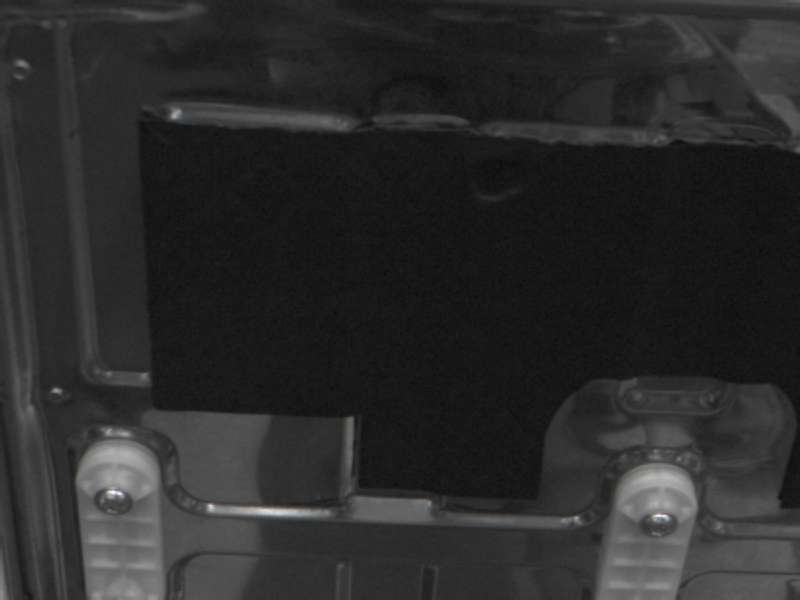screw: (94, 487, 133, 516), (640, 512, 678, 537)
